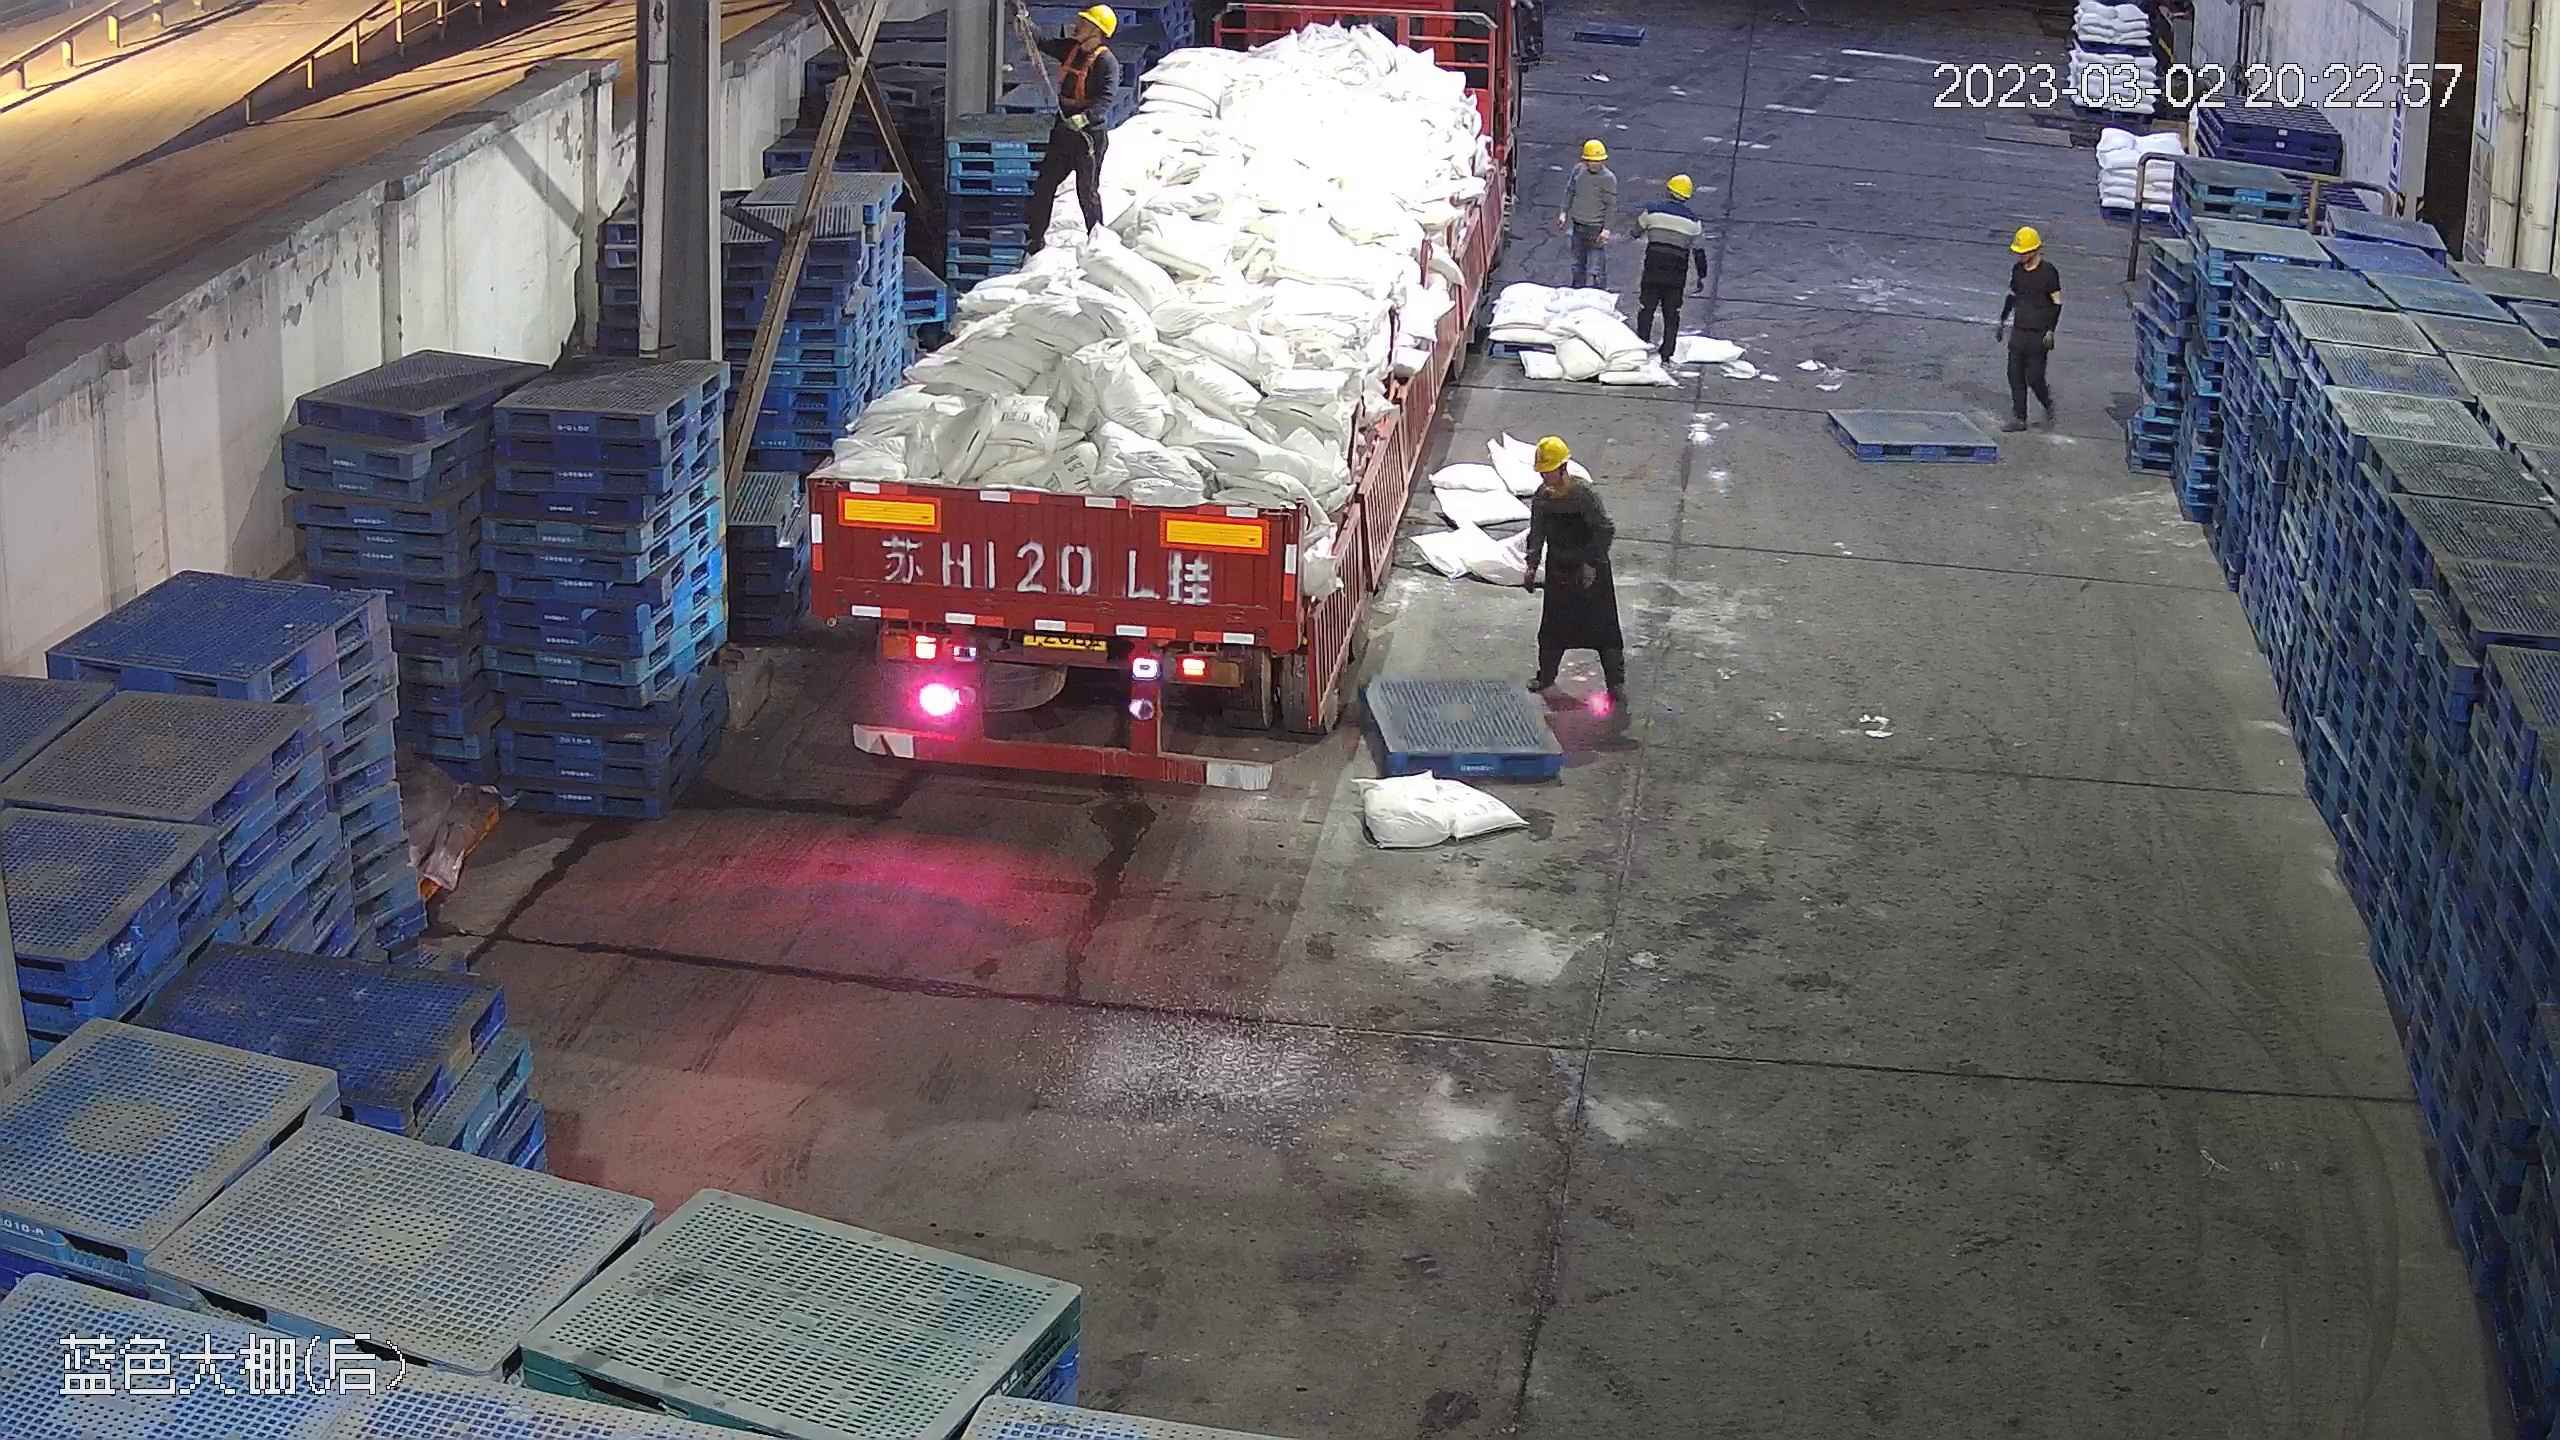belt: (1051, 40, 1103, 102)
head: (1525, 431, 1608, 532), (1048, 4, 1123, 76), (2002, 223, 2063, 291), (1642, 173, 1700, 234), (1566, 138, 1616, 195)
helmet: (1529, 431, 1571, 473), (1077, 2, 1117, 37), (2010, 223, 2046, 250), (1664, 172, 1695, 196), (1580, 138, 1605, 159)
people: (1516, 430, 1632, 724), (1023, 1, 1123, 249), (1994, 220, 2068, 430), (1630, 169, 1707, 367), (1560, 136, 1619, 295)
truck: (802, 1, 1524, 796)
